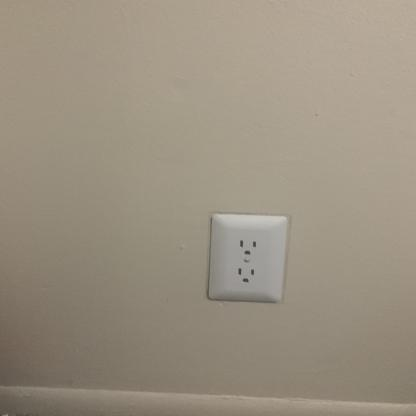OUTLET: (209, 214, 286, 303)
